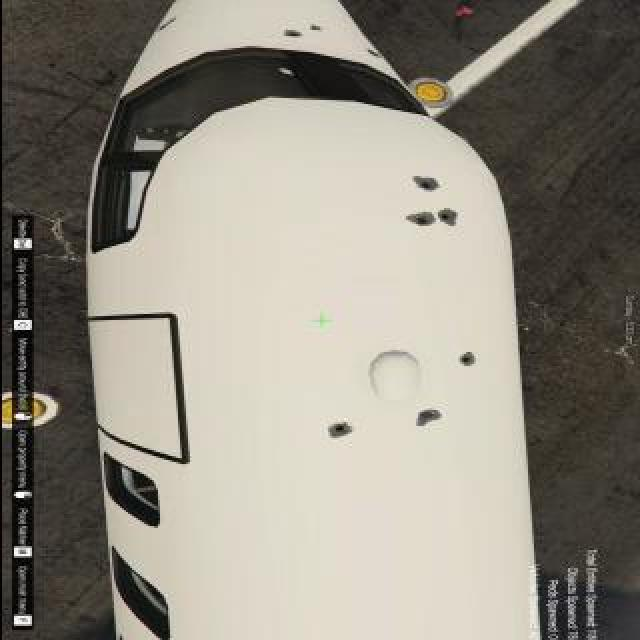crack: (324, 421, 358, 441), (410, 176, 442, 196), (414, 408, 438, 428), (437, 207, 457, 227), (456, 351, 478, 369), (408, 213, 432, 229), (156, 18, 180, 34), (283, 31, 303, 39), (364, 50, 380, 60), (309, 25, 323, 33)
